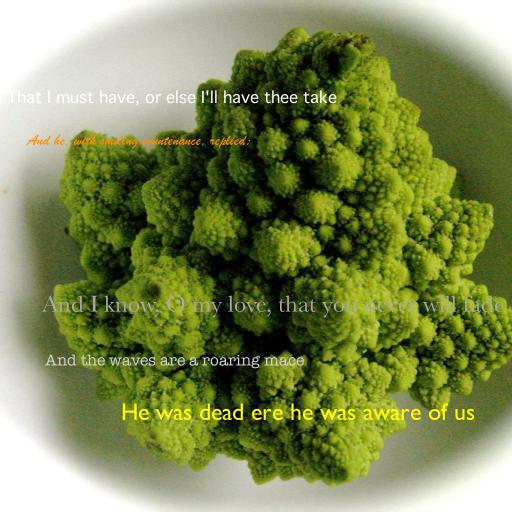American Typewriter: (44, 354, 304, 369)
Baskerville: (41, 295, 505, 318)
Brush Script MT: (27, 134, 251, 149)
Geneva: (7, 90, 337, 106)
Gill Sans: (121, 403, 475, 421)
